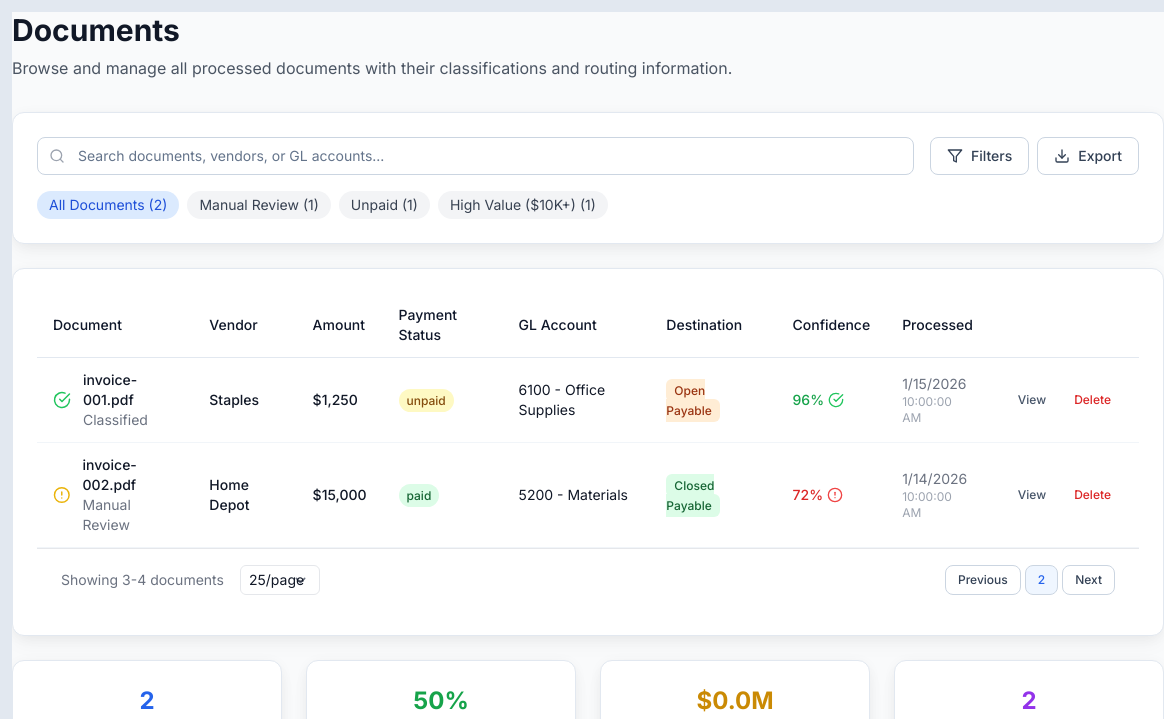
Test: Documents › shows confirmation before deleting
Click the button "Delete" in the row of "classified" at (1093, 400), box [1062,386,1123,414]
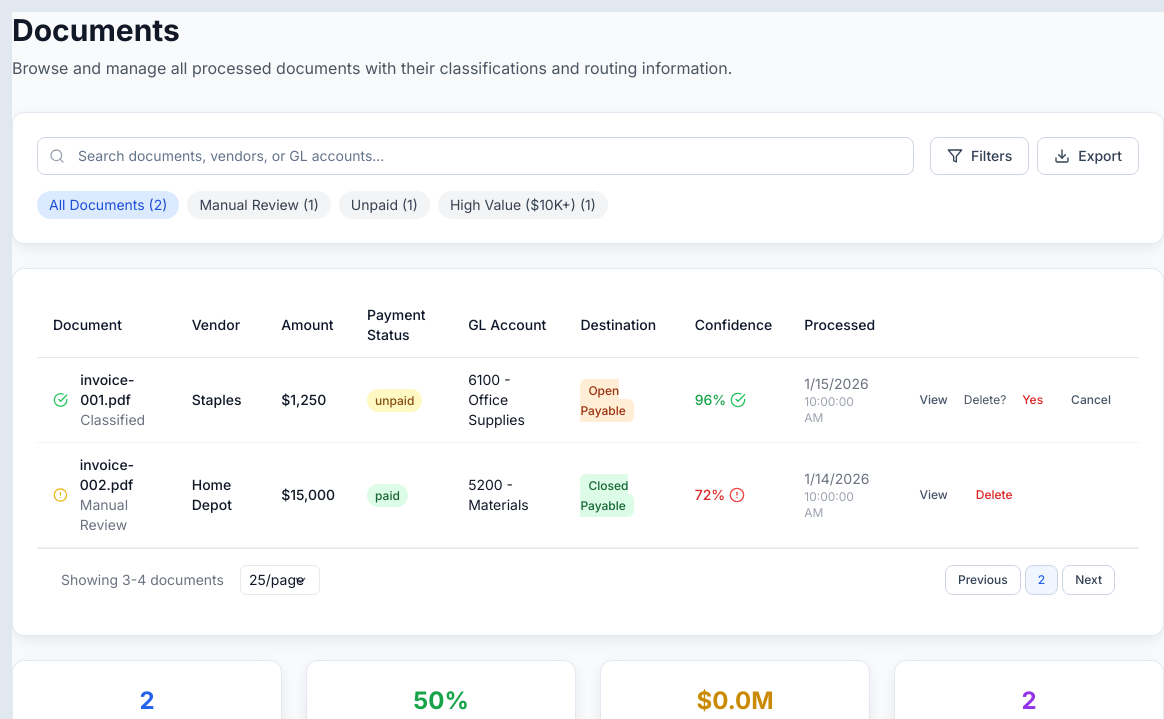
Check: the text "Delete?" is shown, box [964,392,1006,408]
Check: the text "Yes" is shown, box [1022,392,1043,408]
Check: the text "Cancel" is shown, box [1071,392,1111,408]
